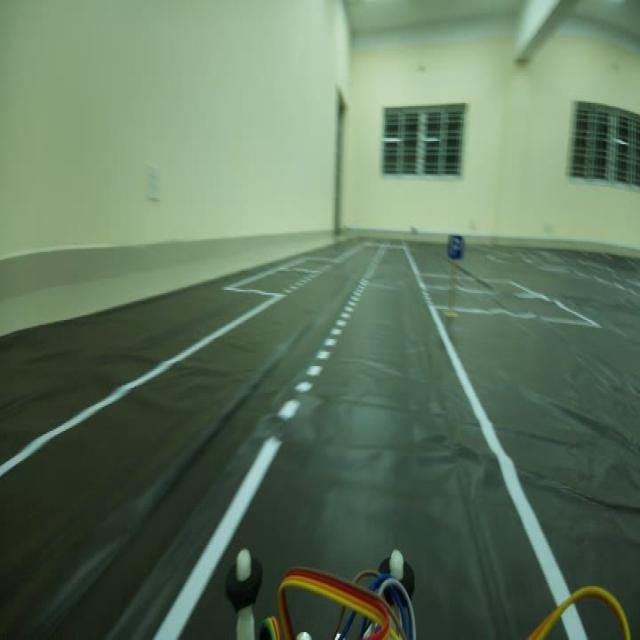parking: (444, 226, 470, 268)
